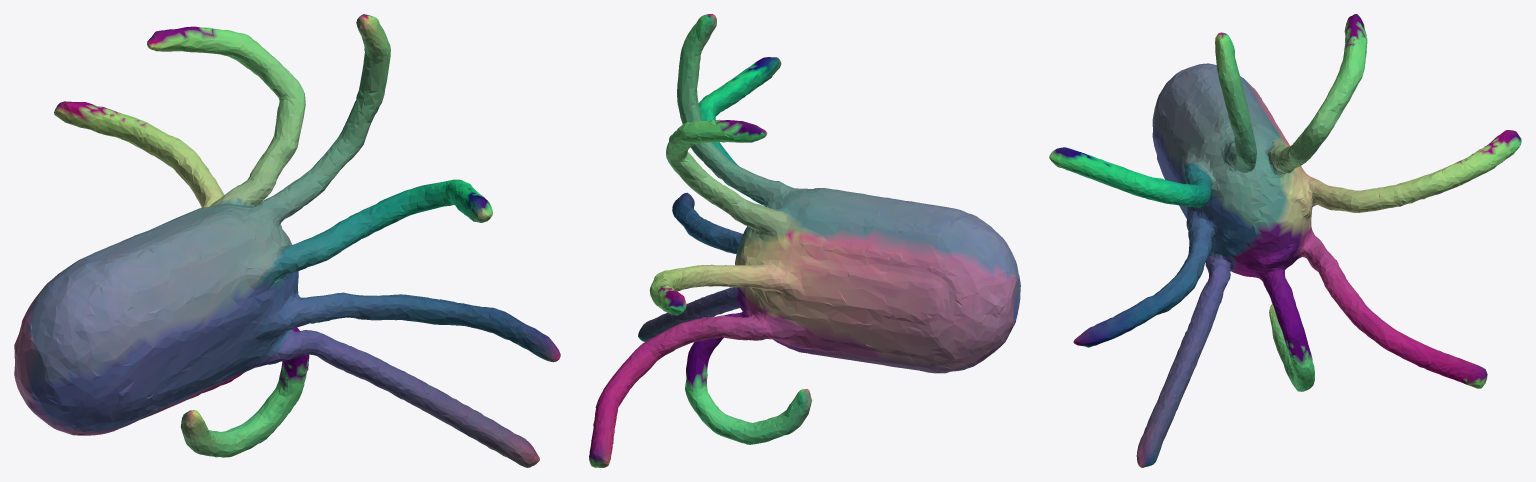
The model's file is octopus-10.off.obj.
The picture shows the model from 3 angles, left to right: view 1: azimuth 30°, elevation 25°; view 2: azimuth 150°, elevation 25°; view 3: azimuth 270°, elevation 25°; orthographic projection. The views are drawn at different scales.
Bounding box in the file's own units: 1.32 × 1.18 × 1.31.
